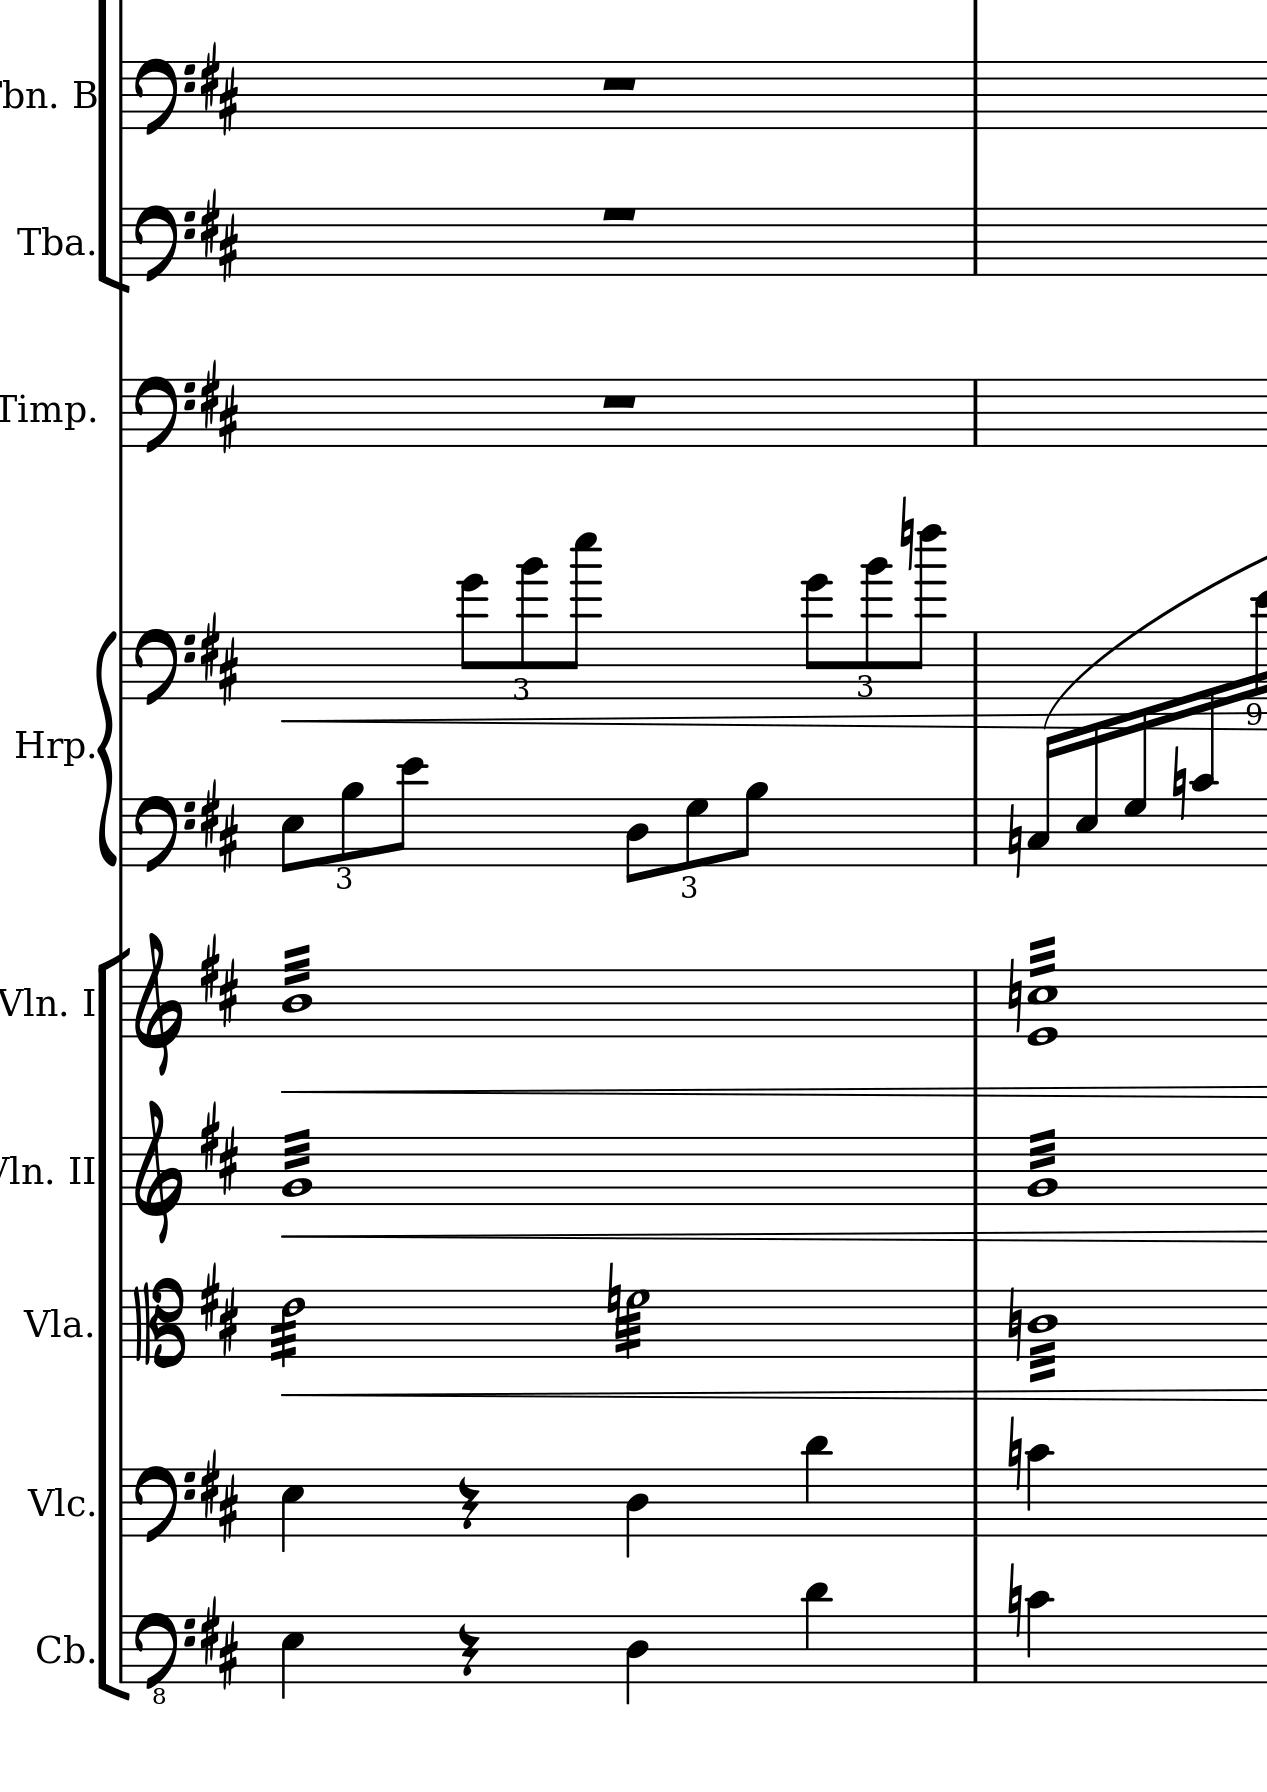16_3: (1026, 734, 1059, 868)
16_5: (1074, 717, 1098, 872)
16_7: (1122, 706, 1146, 871)
3: (332, 867, 354, 893), (677, 875, 699, 901), (511, 676, 528, 701)
4_10: (1026, 1590, 1052, 1686), (1026, 1442, 1050, 1540)
4_4: (623, 1467, 649, 1559), (623, 1614, 649, 1706)
4_5: (278, 1612, 304, 1702), (278, 1466, 304, 1553)
8_11: (801, 1431, 831, 1540), (801, 1579, 830, 1686)
8_12: (389, 755, 426, 868)
8_14: (455, 570, 488, 703), (799, 573, 831, 703)
8_16: (516, 553, 551, 701), (860, 557, 895, 702)
8_19: (568, 532, 602, 697)
8_4: (624, 797, 649, 884)
8_5: (278, 797, 304, 873)
8_7: (683, 797, 709, 871)
8_9: (734, 782, 768, 867), (339, 782, 363, 882)
Brace: (95, 632, 115, 862)
Bracke: (95, 943, 133, 1706)
Cclef: (129, 1276, 185, 1371)
D_S: (197, 1261, 241, 1357), (196, 361, 240, 454), (197, 934, 240, 1030), (197, 1098, 239, 1196), (199, 191, 243, 281), (199, 613, 241, 703), (197, 1449, 239, 1541), (202, 43, 240, 138), (200, 779, 237, 871)
Fclef: (132, 203, 193, 287), (132, 794, 193, 876), (132, 627, 193, 707), (133, 373, 193, 455), (134, 1464, 193, 1545), (134, 56, 193, 136)
Gclef: (132, 1098, 185, 1245), (132, 931, 184, 1078)
Hrp: (11, 724, 84, 772)
Lower_Fclef: (132, 1610, 193, 1706)
Natural: (1002, 801, 1023, 882), (1002, 956, 1023, 1035), (1004, 1282, 1023, 1360), (1170, 744, 1187, 823), (897, 494, 915, 568), (1005, 1415, 1022, 1493), (1005, 1562, 1022, 1640), (605, 1260, 623, 1324)
Ob: (36, 1629, 85, 1671)
Rests1: (596, 389, 640, 411), (598, 73, 640, 95), (598, 203, 640, 225)
Rests4: (457, 1622, 479, 1680), (457, 1475, 479, 1531)
Single_barline: (963, 629, 985, 723), (963, 62, 986, 128), (964, 208, 985, 276), (964, 1138, 985, 1205), (964, 1290, 985, 1357), (964, 380, 985, 446), (965, 799, 985, 867), (965, 1468, 985, 1536), (965, 1617, 985, 1682), (965, 971, 983, 1037), (112, 210, 129, 278), (112, 1470, 129, 1536), (115, 631, 130, 699), (114, 969, 129, 1038), (114, 1617, 129, 1684), (114, 62, 129, 128), (112, 380, 128, 446), (112, 1292, 128, 1357), (114, 1139, 128, 1204), (115, 799, 128, 864)
Stem: (277, 945, 314, 1038), (1024, 1289, 1060, 1383), (267, 1287, 304, 1370), (278, 1126, 313, 1207), (1026, 1126, 1059, 1205)
Tba: (10, 219, 88, 265)
Vla: (23, 1304, 85, 1346)
Vlc: (26, 1481, 86, 1525)
Vln: (1, 983, 59, 1021)
